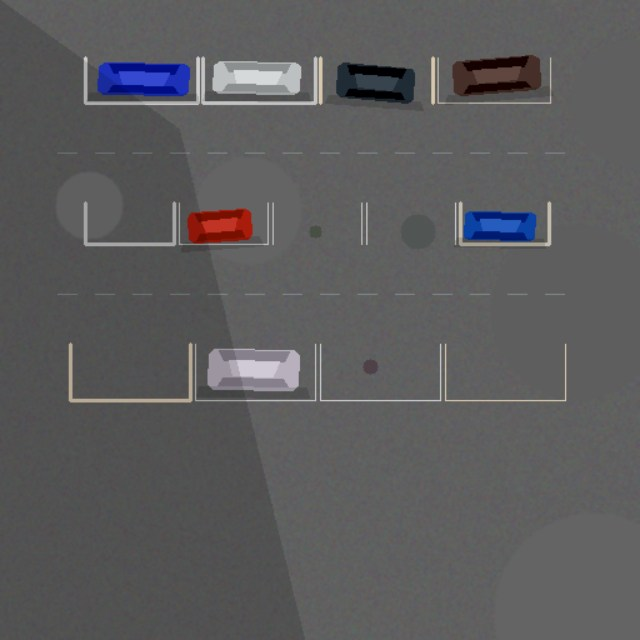space-empty: (70, 344, 190, 400), (320, 344, 440, 400), (445, 344, 565, 400), (85, 203, 174, 244), (272, 203, 361, 244), (366, 203, 455, 244)
space-occupied: (195, 344, 315, 400), (320, 58, 433, 102), (437, 58, 550, 102), (85, 58, 197, 102), (203, 58, 315, 102), (179, 203, 268, 244), (460, 203, 549, 244)
